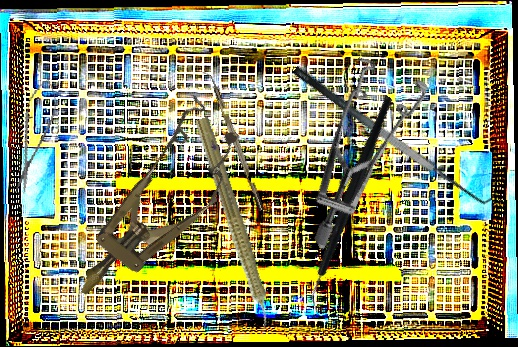Chopper: (247, 93, 458, 317), (200, 68, 265, 214)
Handpiece: (185, 115, 283, 339)
Micro Scissor: (5, 73, 64, 197)
Spatula Surgical: (291, 49, 498, 217)
Speculum: (244, 34, 472, 252), (49, 94, 260, 321)
